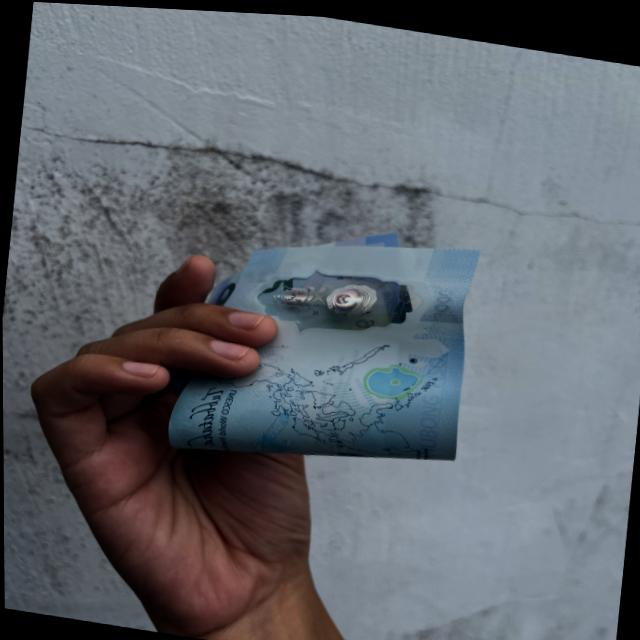clear_window: (249, 239, 422, 344)
